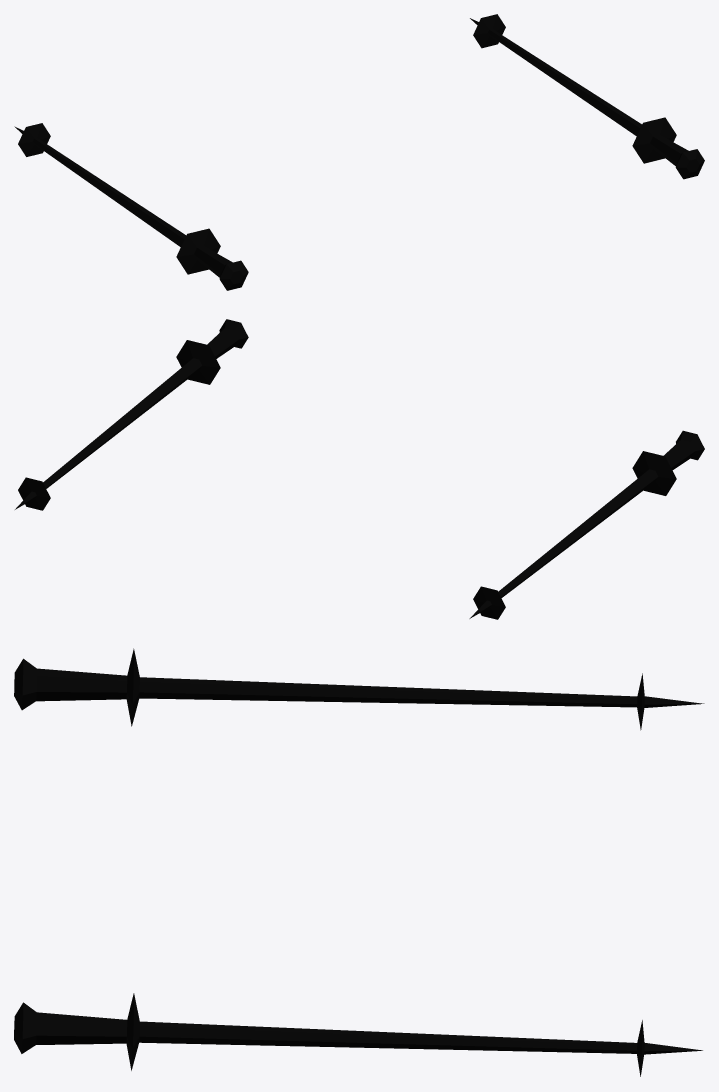
File: Char@TurnAnim.FBX
The picture shows the model from 3 angles, top to bottom: view 1: azimuth 30°, elevation 25°; view 2: azimuth 150°, elevation 25°; view 3: azimuth 270°, elevation 25°; orthographic projection. The views are drawn at different scales.
Parts seen in each view (by area): view 1: Cylinder002, Cylinder001; view 2: Cylinder002, Cylinder001; view 3: Cylinder001, Cylinder002.
Boxes of the visible parts, left/top/right/bottom form: Cylinder002: left=470, top=14, right=704, bottom=179; Cylinder001: left=14, top=123, right=248, bottom=290; Cylinder002: left=15, top=319, right=248, bottom=510; Cylinder001: left=469, top=430, right=704, bottom=619; Cylinder001: left=14, top=648, right=704, bottom=730; Cylinder002: left=14, top=993, right=702, bottom=1076.
Size of the model in its own units: 552 by 48.84 by 427.
1 material, 1 textured.
